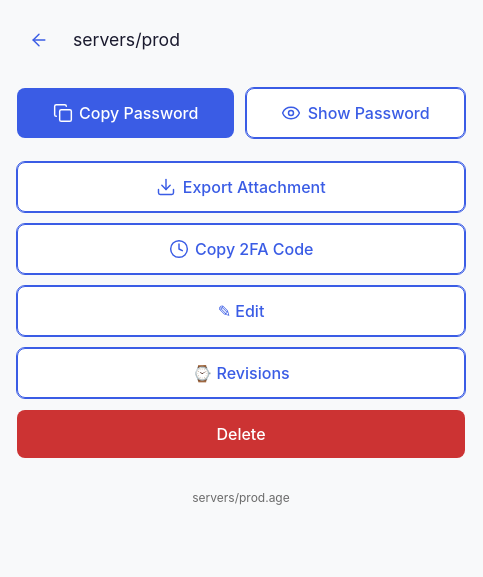
Test case: EntryDetailPage › security lifecycle › header Back button navigates back and wipes the revealed password
Click the button with aria-label "Show password": [356, 113] box [246,88,465,138]
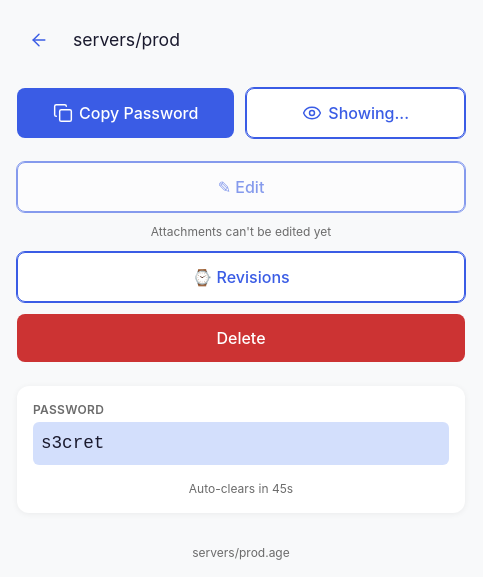
Check: the text "s3cret" is shown, box [33,422,449,465]
Click the button named "Back": [39, 40] box [17,16,61,64]
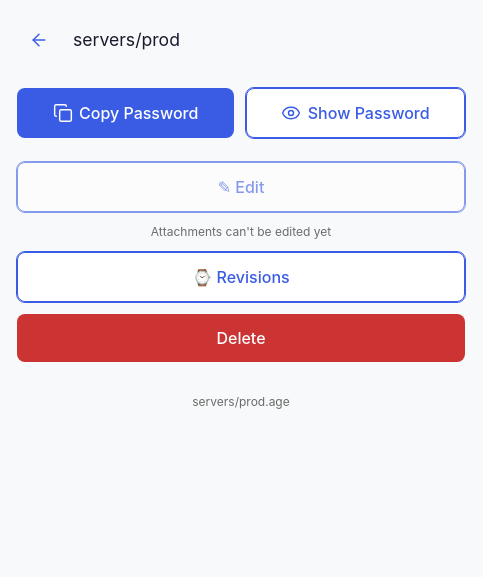
Check: the text "s3cret" is gone
